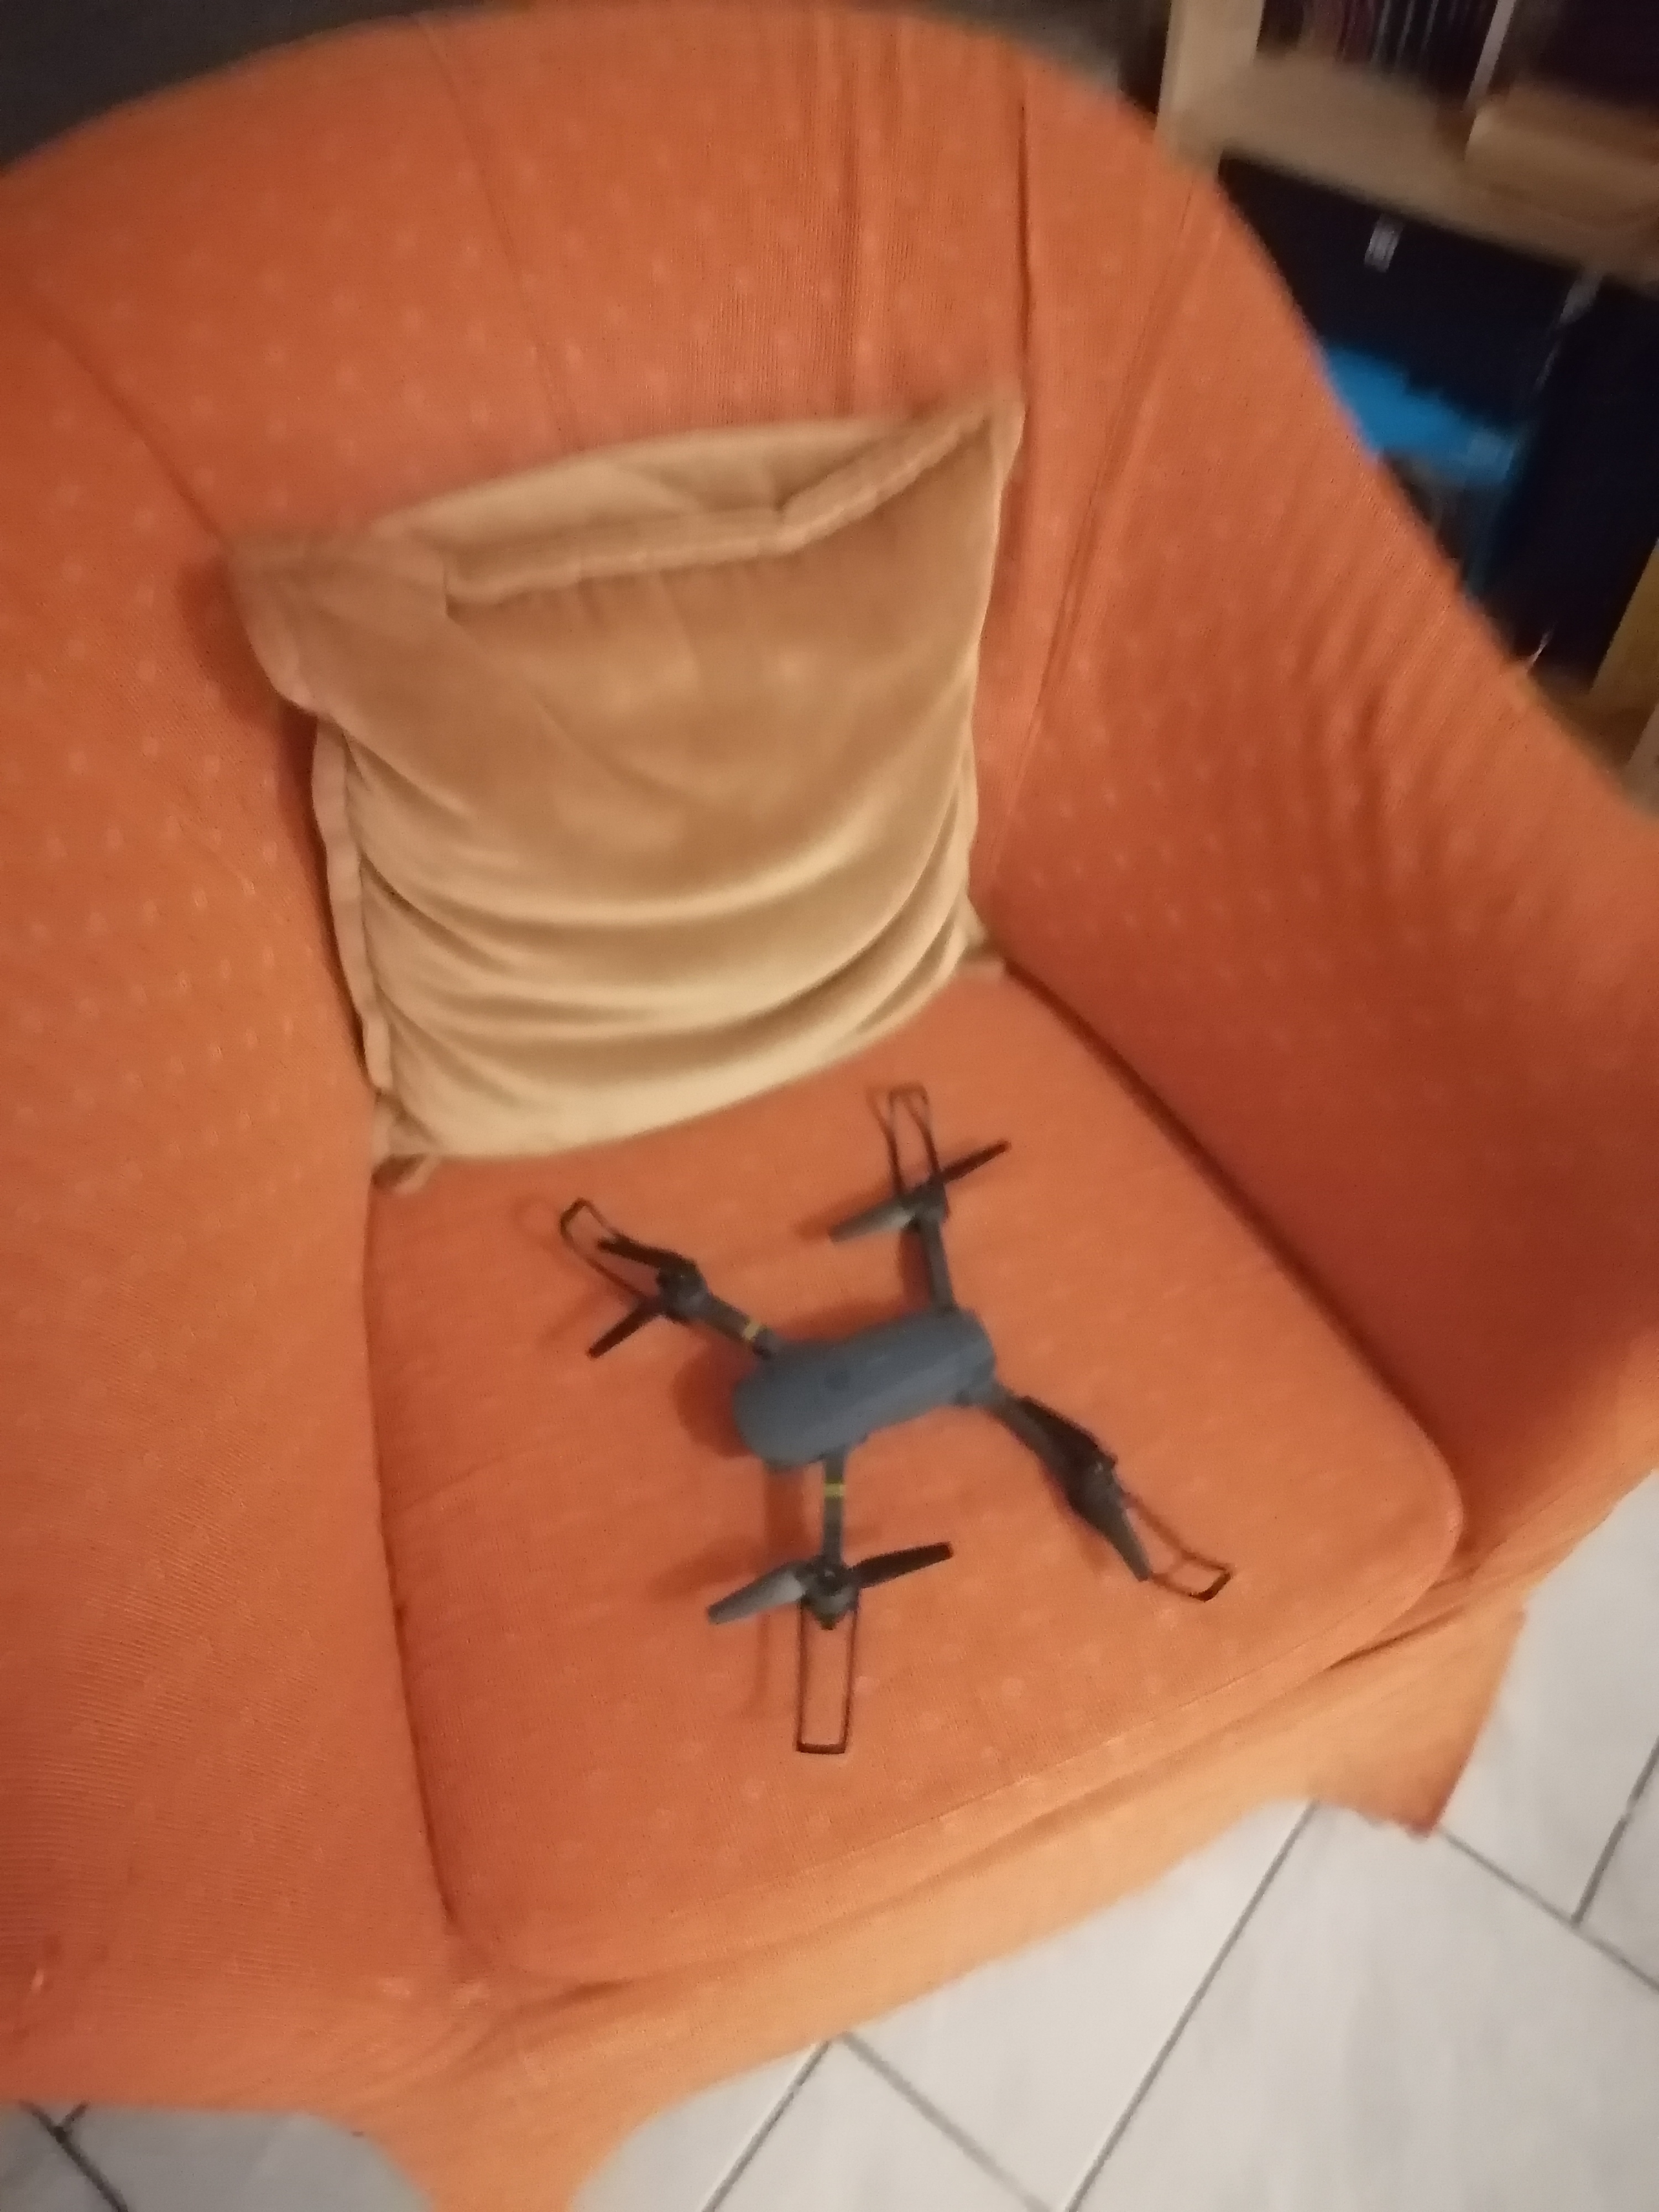drone: (579, 1200, 1246, 1696)
